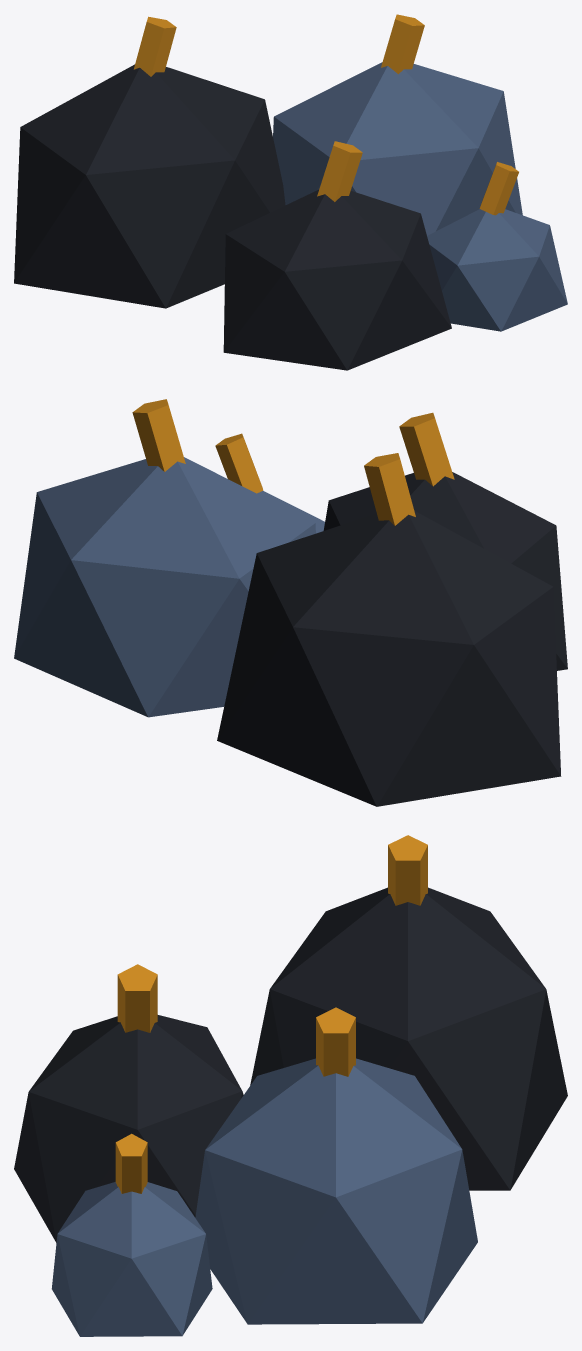
The model's file is city_trash_bags.glb.
3 views of the same model, one above another, from view 1: azimuth 30°, elevation 25°; view 2: azimuth 150°, elevation 25°; view 3: azimuth 270°, elevation 25° (orthographic). The views are drawn at different scales.
Parts seen in each view (by area): view 1: bag_0, bag_1, bag_2, tie.001, tie.002, tie; view 2: bag_0, bag_1, bag_2, tie.001, tie.002, tie; view 3: bag_1, bag_0, bag_2, tie.001, tie, tie.002.
Part boxes in pixels (left/top/right/bottom): bag_0: left=14, top=64, right=285, bottom=308; bag_1: left=273, top=62, right=567, bottom=331; bag_2: left=223, top=189, right=451, bottom=370; tie.001: left=381, top=14, right=518, bottom=215; tie.002: left=317, top=141, right=362, bottom=201; tie: left=133, top=16, right=176, bottom=76; bag_0: left=217, top=511, right=561, bottom=806; bag_1: left=14, top=457, right=324, bottom=717; bag_2: left=323, top=472, right=567, bottom=670; tie.001: left=132, top=399, right=263, bottom=493; tie.002: left=399, top=412, right=454, bottom=486; tie: left=364, top=453, right=415, bottom=525; bag_1: left=51, top=1058, right=477, bottom=1336; bag_0: left=250, top=887, right=567, bottom=1190; bag_2: left=14, top=1015, right=243, bottom=1242; tie.001: left=115, top=1007, right=355, bottom=1193; tie: left=388, top=835, right=427, bottom=905; tie.002: left=117, top=964, right=157, bottom=1032.
Bounding box in the file's own units: 1.11 × 0.644 × 0.9223.
